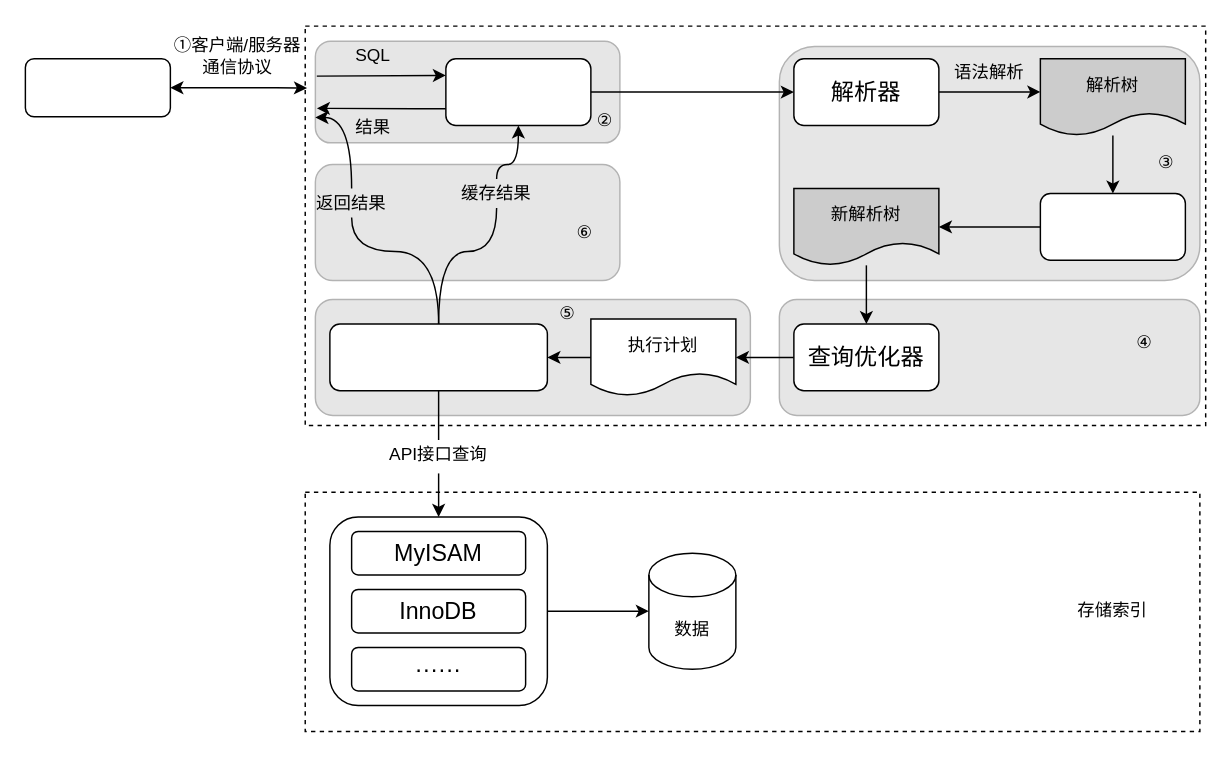
Image size: 1231x757. Some labels were removed from this diagram. Here are the shapes that lost their labels. From the top down, the centre of each, then its label:
At (x=97, y=87): "客户端".
At (x=517, y=91): "查询缓存".
At (x=1112, y=226): "预处理器".
At (x=437, y=357): "查询执行引擎".
